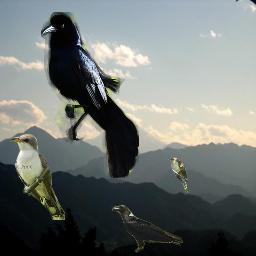Crow: (41, 12, 139, 178), (111, 205, 183, 254)
Cuckoo: (10, 133, 65, 220), (166, 157, 189, 195)
